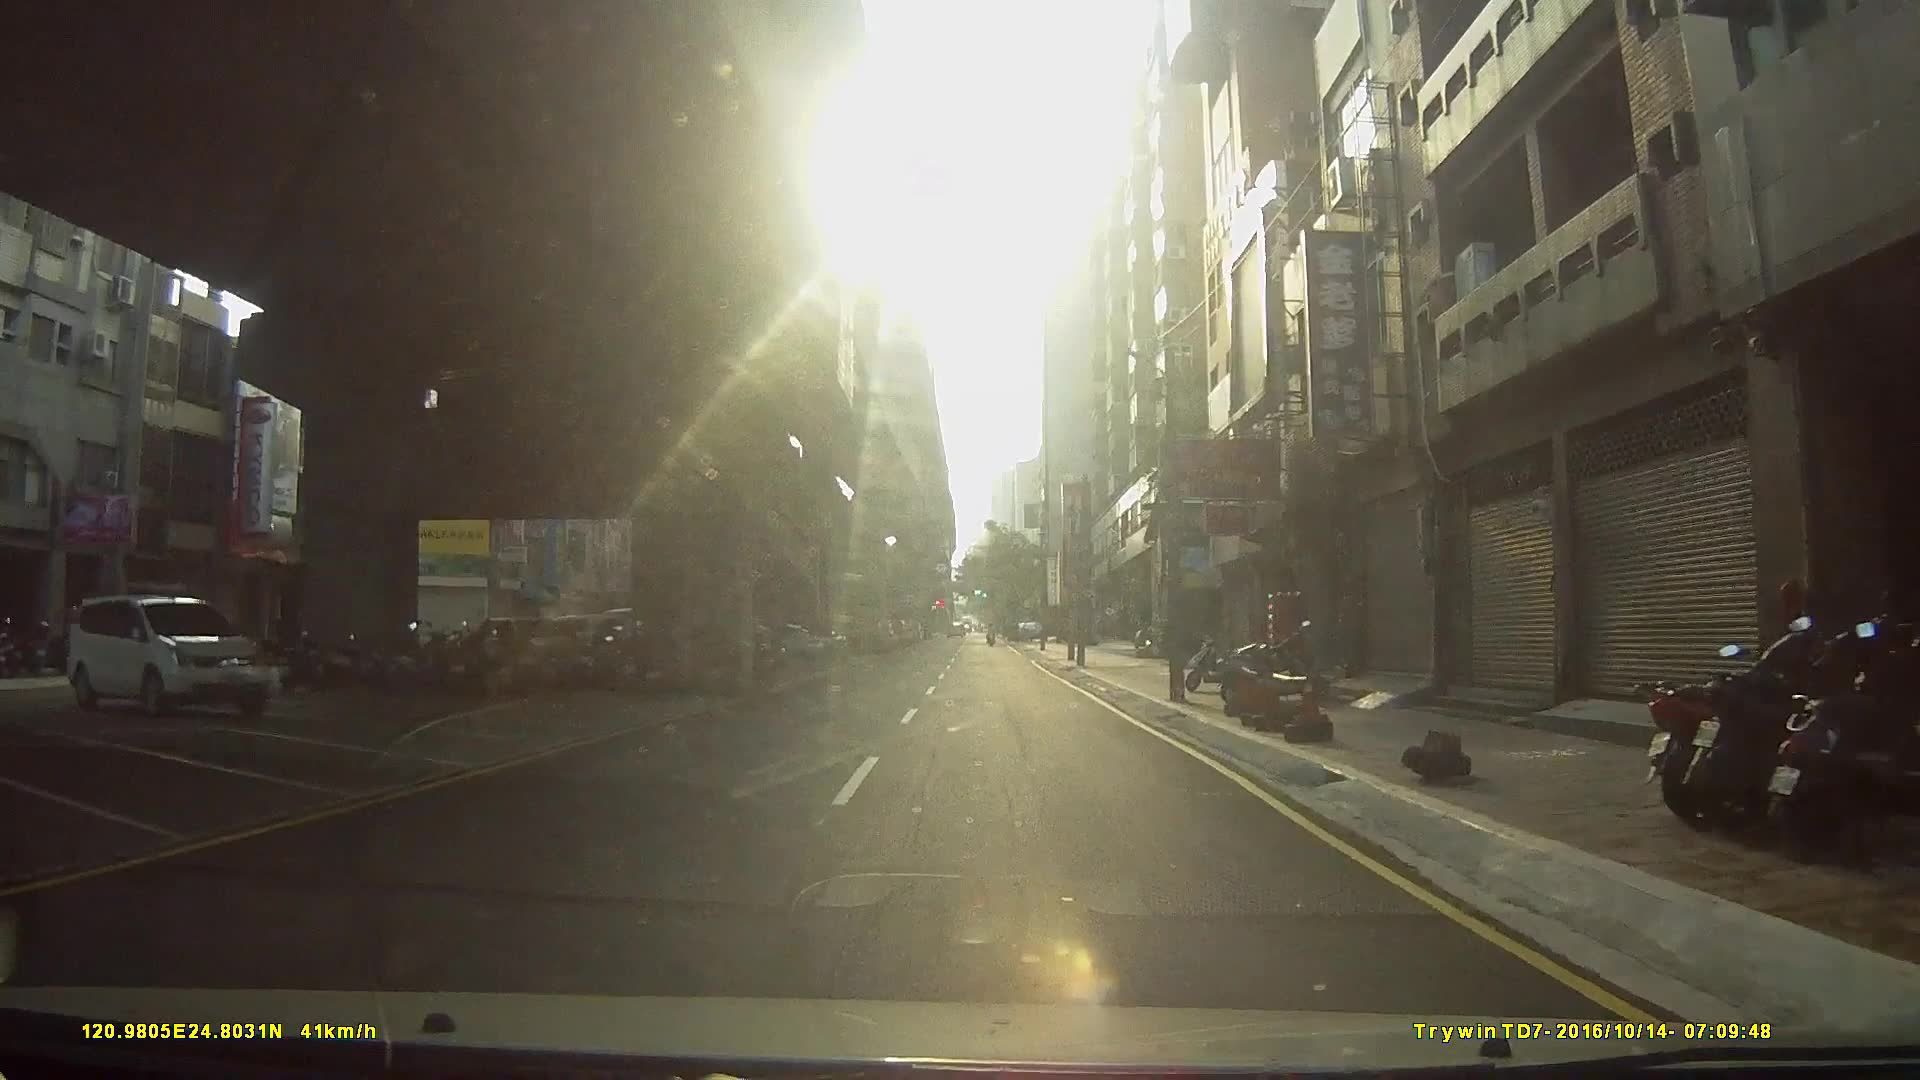vehicle: (63, 593, 272, 720)
